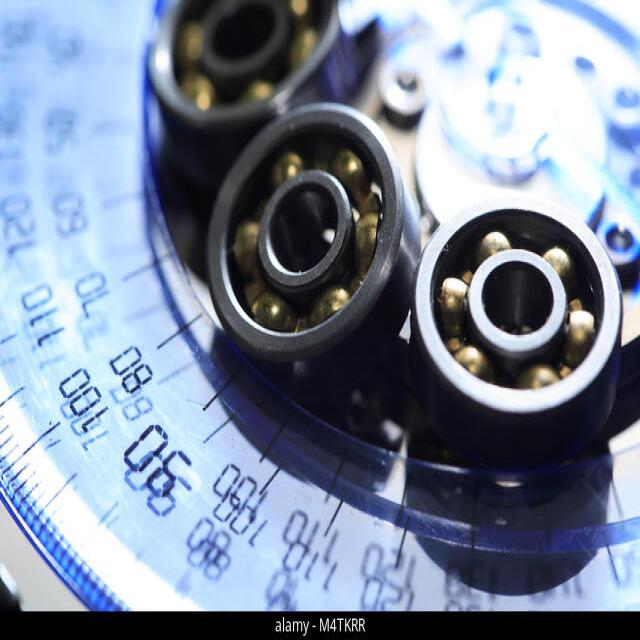Bearing: (205, 102, 417, 390), (410, 196, 624, 471), (147, 0, 346, 186)
